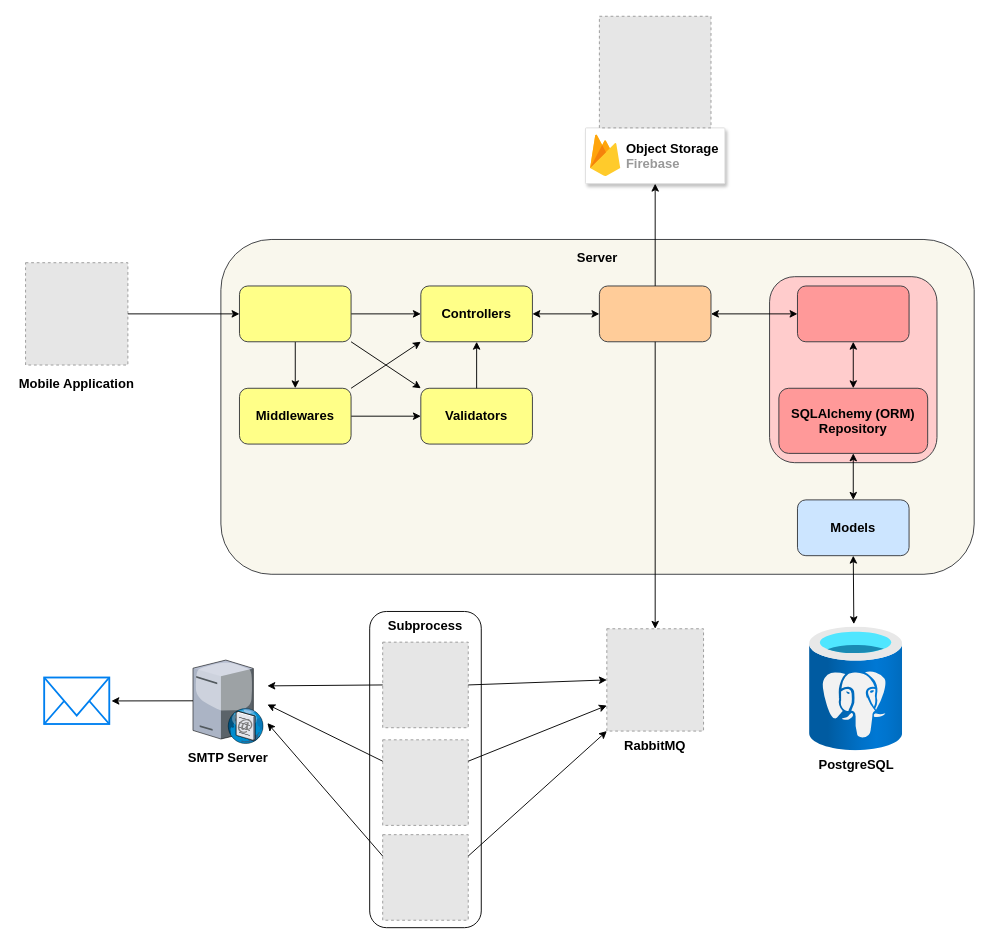
The diagram is 990 pixels wide and 944 high, and some of its shapes have lost their labels. Grey dashed boxes stand in for pictures. The centre of each missing label's shape, as x and y in pixels:
"Abstract Repository" goes at (x=853, y=313).
"Routers" goes at (x=295, y=313).
"Services" goes at (x=654, y=313).
